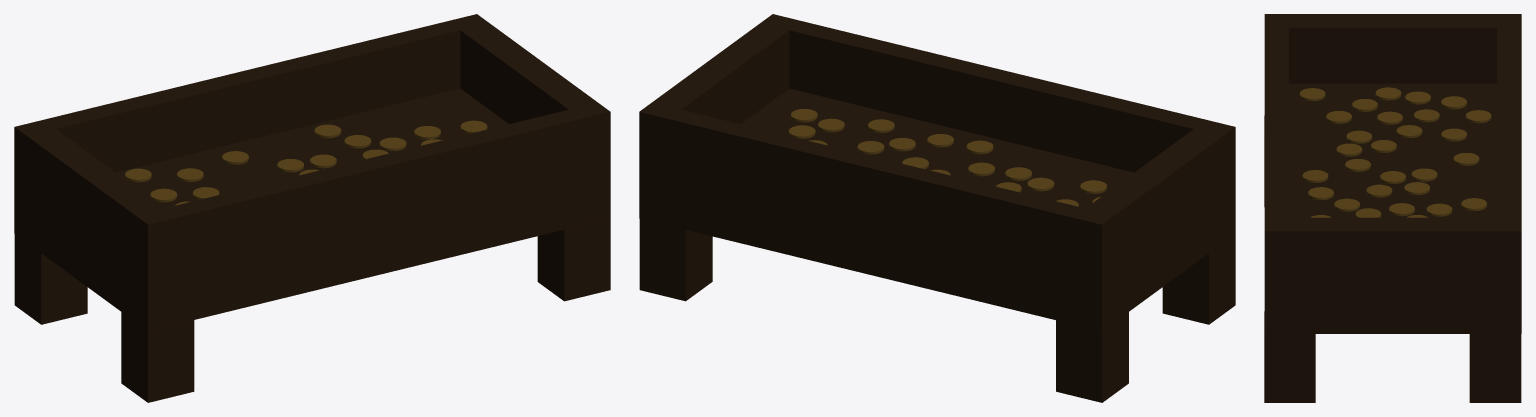
File: food_tray.glb
The picture shows the model from 3 angles, left to right: view 1: azimuth 30°, elevation 25°; view 2: azimuth 150°, elevation 25°; view 3: azimuth 270°, elevation 25°; orthographic projection. The views are drawn at different scales.
Parts seen in each view (by area): view 1: Cube; view 2: Cube; view 3: Cube, Cylinder.011, Cylinder.002, Cylinder.020, Cylinder.004, Cylinder.016, Cylinder.018, Cylinder.019, Cylinder.022, Cylinder.032, Cylinder.003, Cylinder.031 (+15 smaller).
Boxes of the visible parts, left/top/right/bottom form: Cube: left=14, top=14, right=610, bottom=402; Cube: left=639, top=14, right=1235, bottom=402; Cube: left=1264, top=14, right=1521, bottom=402; Cylinder.011: left=1336, top=143, right=1362, bottom=156; Cylinder.002: left=1411, top=168, right=1437, bottom=181; Cylinder.020: left=1441, top=96, right=1466, bottom=109; Cylinder.004: left=1426, top=203, right=1452, bottom=216; Cylinder.016: left=1377, top=111, right=1402, bottom=124; Cylinder.018: left=1375, top=87, right=1401, bottom=100; Cylinder.019: left=1405, top=91, right=1430, bottom=104; Cylinder.022: left=1441, top=128, right=1466, bottom=141; Cylinder.032: left=1414, top=109, right=1439, bottom=122; Cylinder.003: left=1366, top=184, right=1392, bottom=197; Cylinder.031: left=1299, top=88, right=1325, bottom=101.
Bounding box in the file's own units: 2 × 0.7366 × 1.
